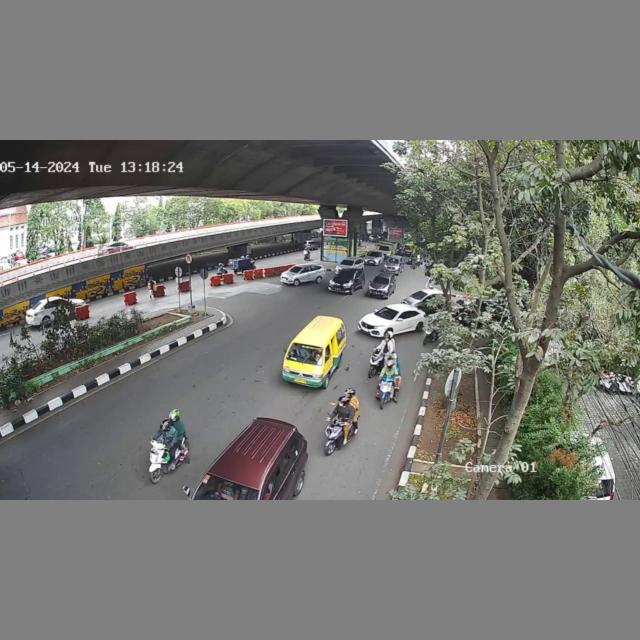windshield: (285, 343, 324, 366)
